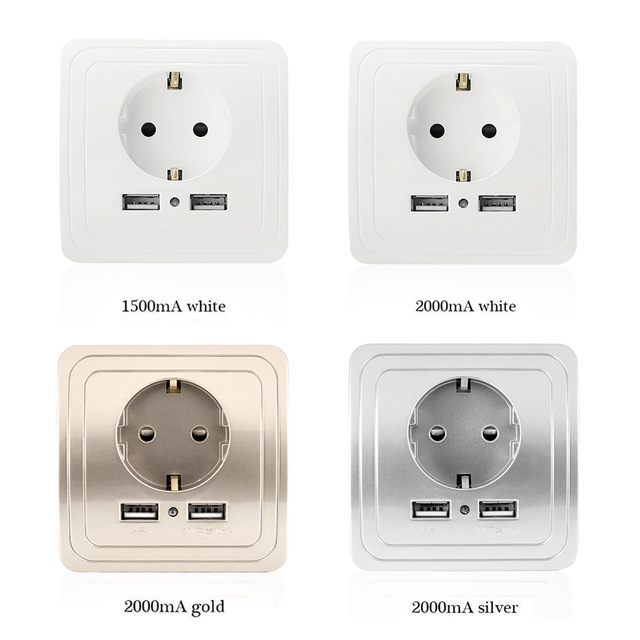raccoon: (113, 375, 231, 495), (405, 370, 521, 492), (404, 65, 522, 180), (117, 65, 230, 178)
